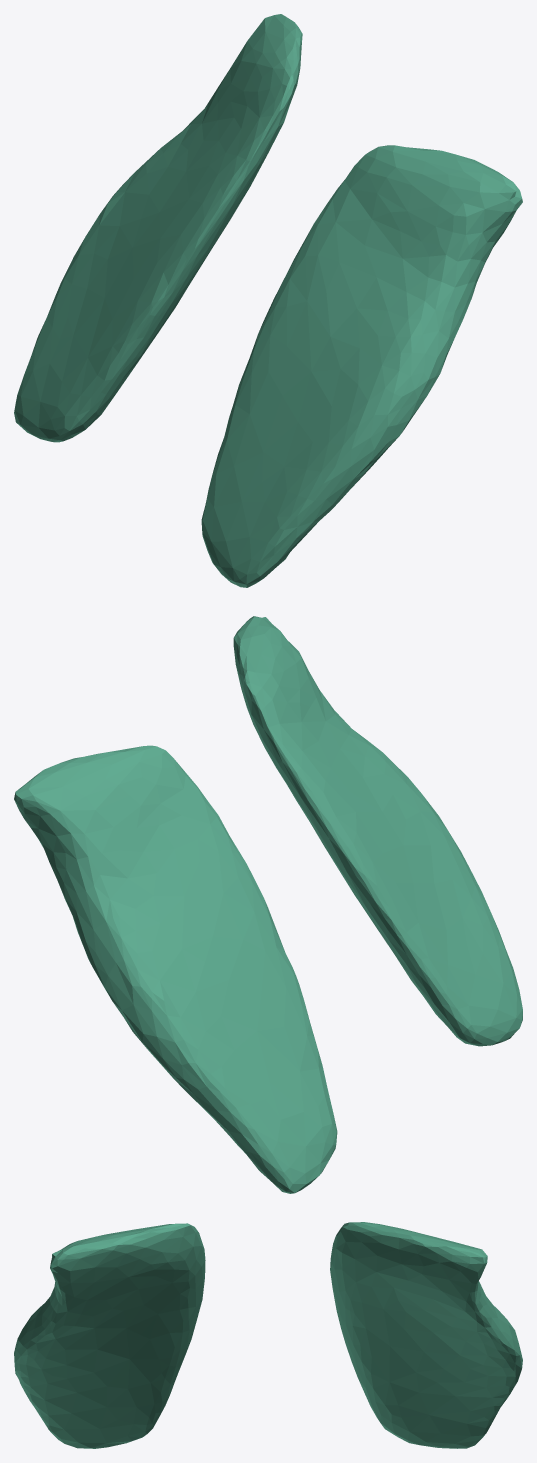
3 renders of one model, top to bottom at view 1: azimuth 30°, elevation 25°; view 2: azimuth 150°, elevation 25°; view 3: azimuth 270°, elevation 25°, orthographic. The views are drawn at different scales.
Parts seen in each view (by area): view 1: 288.obj; view 2: 288.obj; view 3: 288.obj.
Boxes of the visible parts, box(x1,y1,x2,y2) form: 288.obj: box(14, 14, 522, 587); 288.obj: box(14, 616, 522, 1193); 288.obj: box(14, 1222, 522, 1448).
Size of the model in its own units: 1301 by 1592 by 2312.
